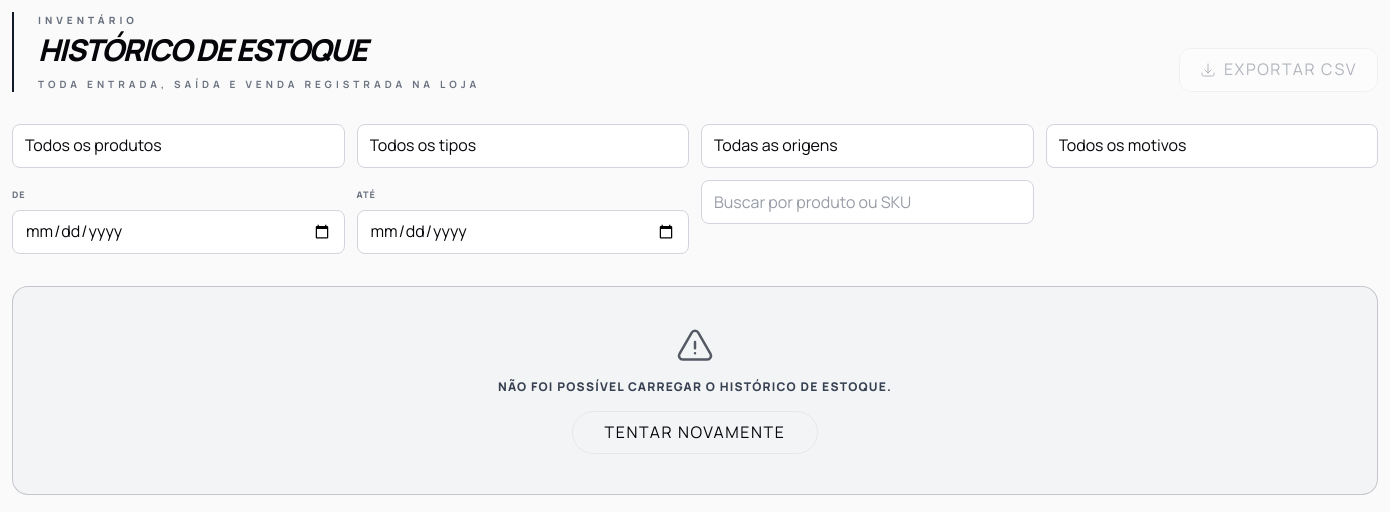
it: DashboardStockMovementsView › shows an error state with a retry button
expect the element with test id "error-state" is shown: met, box 12,286 -> 1378,495
Click the button with test id "btn-retry": click(695, 432) 572,411 -> 818,454
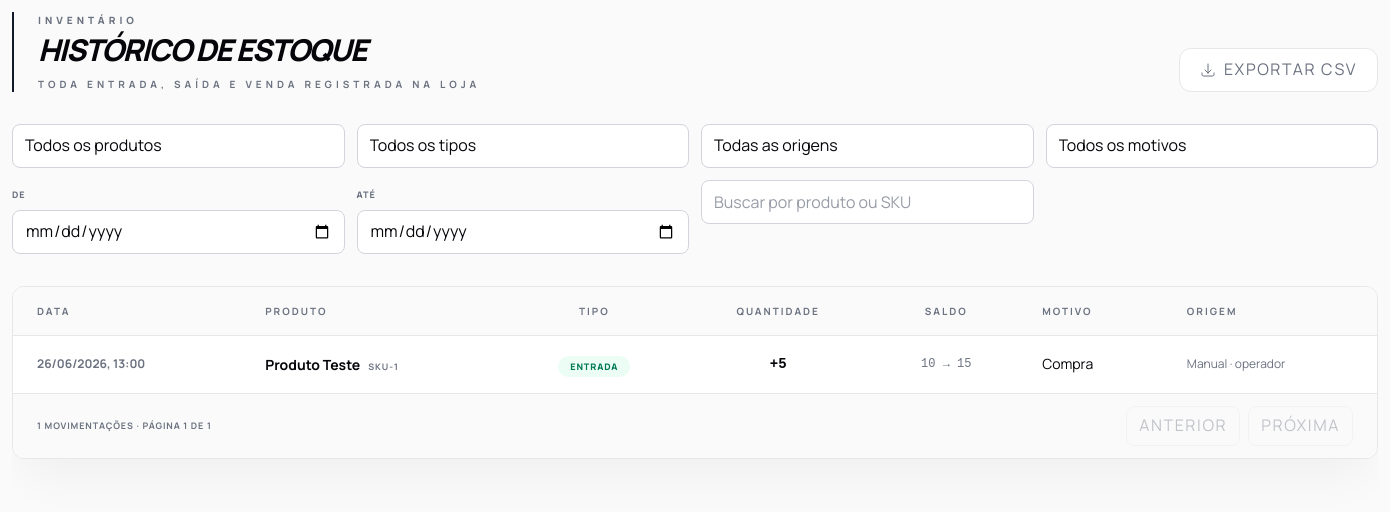
expect the table with test id "stock-ledger-table" is shown: met, box 13,287 -> 1377,393
